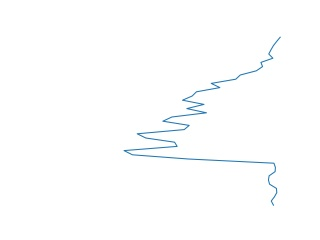proximalDeepseaFan: (120, 35, 284, 207)
